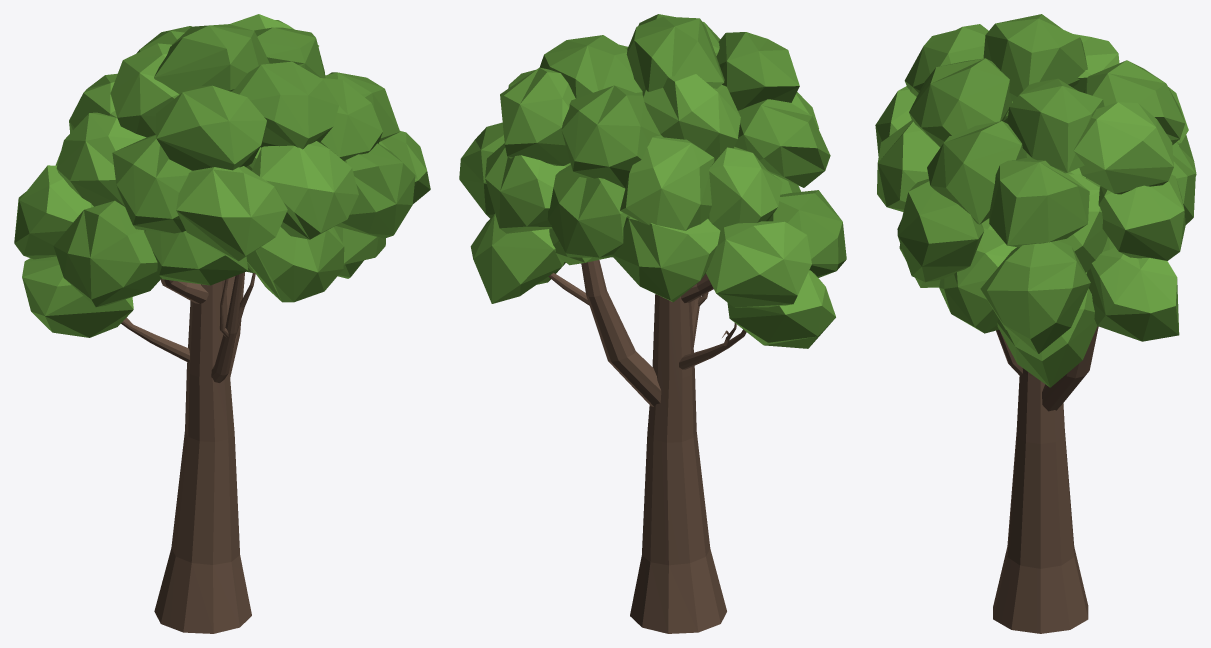
The model's file is tree5a.glb.
3 renders of one model, left to right at view 1: azimuth 30°, elevation 25°; view 2: azimuth 150°, elevation 25°; view 3: azimuth 270°, elevation 25°, orthographic.
Parts seen in each view (by area): view 1: tree_0018; view 2: tree_0018; view 3: tree_0018.
Boxes of the visible parts, x1=… form: tree_0018: x1=14, y1=14, x2=430, y2=633; tree_0018: x1=459, y1=14, x2=846, y2=633; tree_0018: x1=875, y1=14, x2=1196, y2=633.
Size of the model in its own units: 2.76 by 4.13 by 2.01.
